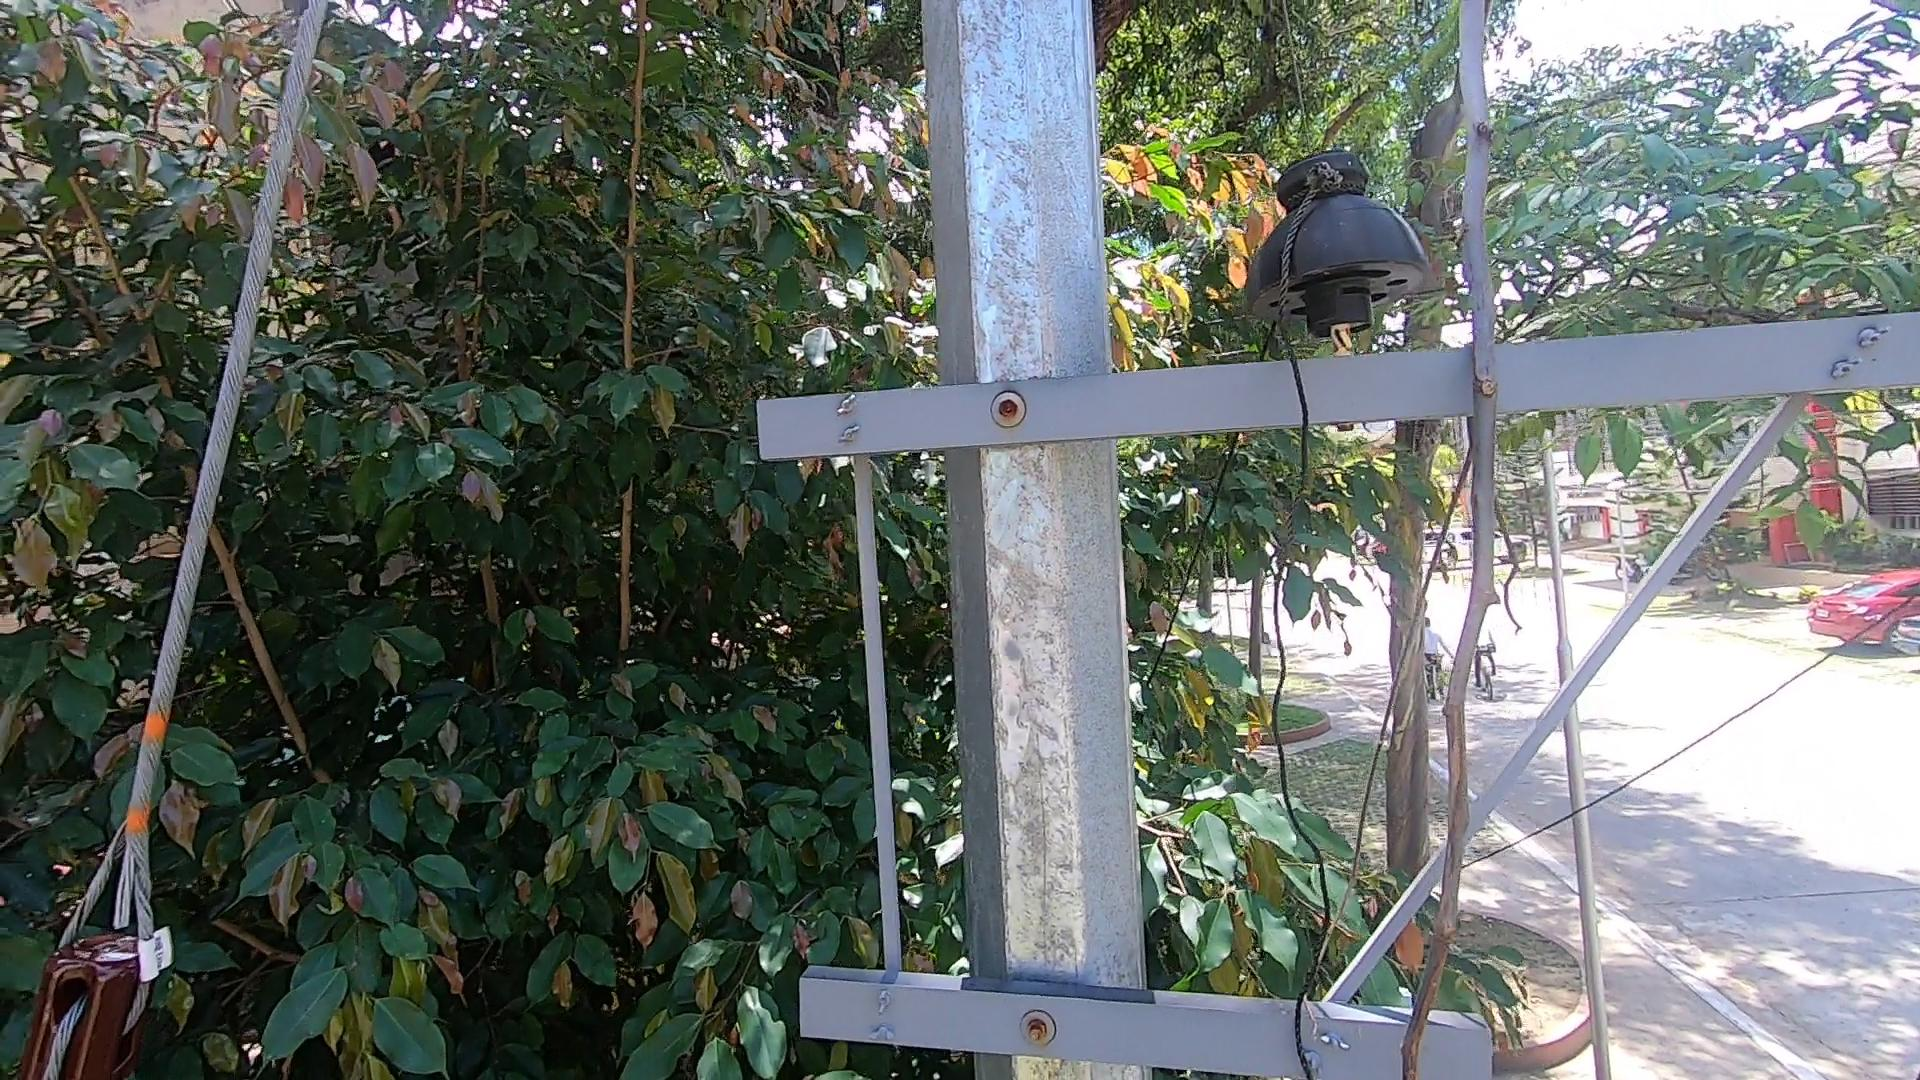branch with leaves: (1265, 885, 1536, 1034)
tree branch: (1385, 3, 1543, 1080)
